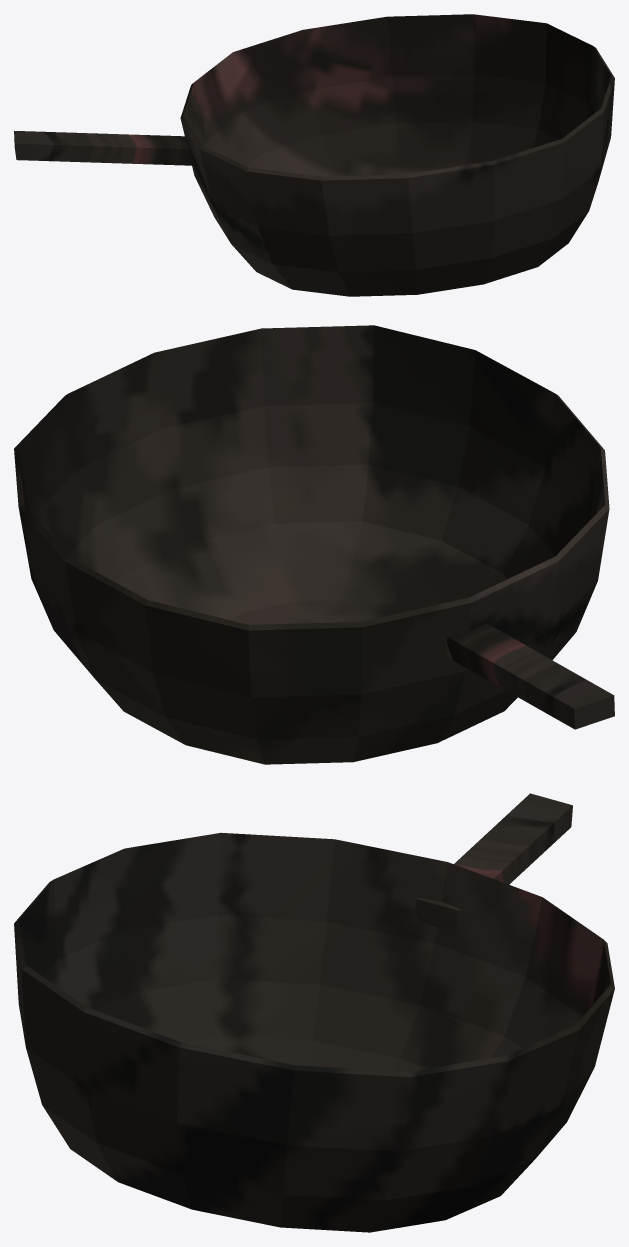
Rendered from SM_Cpan2.fbx.
The picture shows the model from 3 angles, top to bottom: view 1: azimuth 30°, elevation 25°; view 2: azimuth 150°, elevation 25°; view 3: azimuth 270°, elevation 25°; orthographic projection. The views are drawn at different scales.
Visible parts, largest first — view 1: SM_cookiing4.001; view 2: SM_cookiing4.001; view 3: SM_cookiing4.001.
Boxes of the visible parts, x1=… form: SM_cookiing4.001: x1=14, y1=14, x2=614, y2=296; SM_cookiing4.001: x1=14, y1=325, x2=614, y2=764; SM_cookiing4.001: x1=14, y1=793, x2=614, y2=1232.
Bounding box in the file's own units: 45.77 × 16.36 × 35.22.
